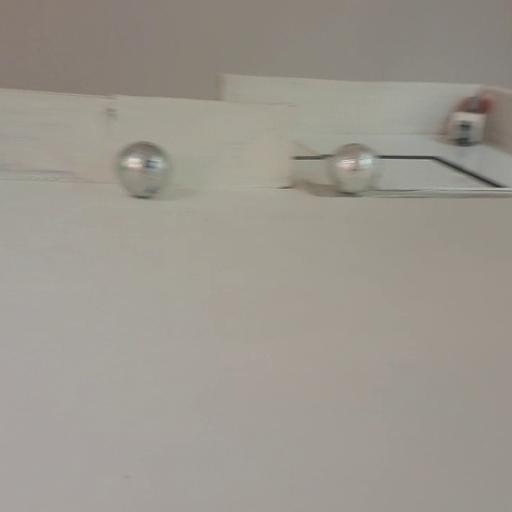alive: (116, 142, 171, 198), (328, 141, 380, 195)
